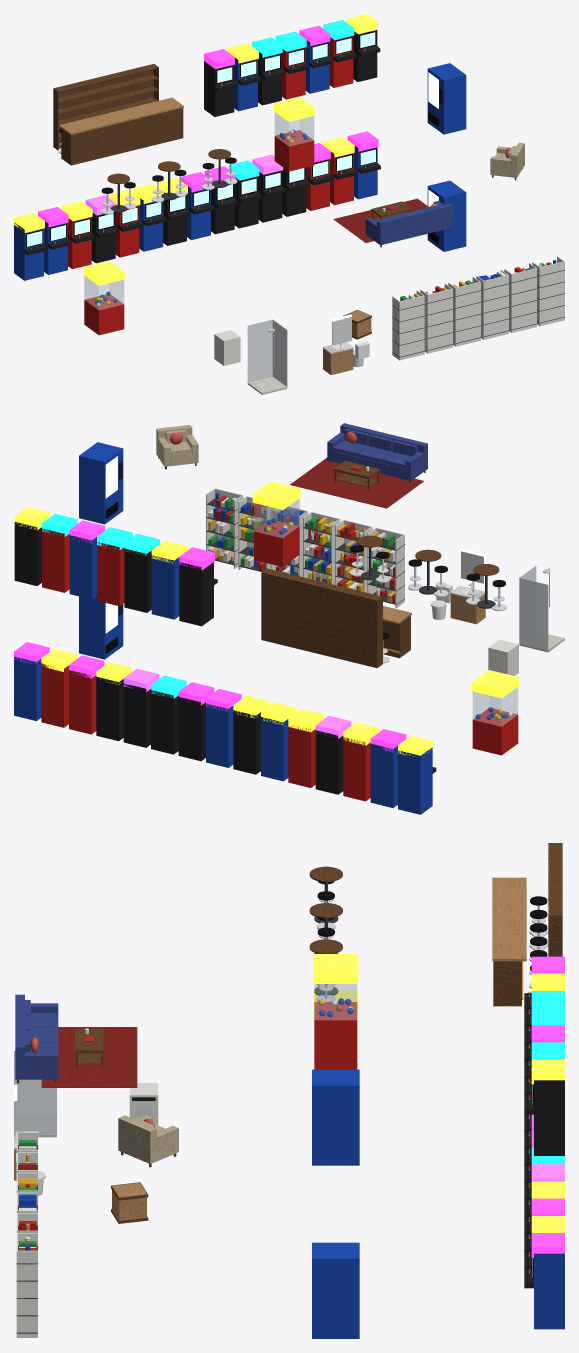
File: i_pachinko_parlor.gltf
The picture shows the model from 3 angles, top to bottom: view 1: azimuth 30°, elevation 25°; view 2: azimuth 150°, elevation 25°; view 3: azimuth 270°, elevation 25°; orthographic projection. The views are drawn at different scales.
Visible parts, largest first — view 1: I_pachinko_parlor; view 2: I_pachinko_parlor; view 3: I_pachinko_parlor.
Boxes of the visible parts, <box> form: I_pachinko_parlor: <box>14,14,564,394</box>; I_pachinko_parlor: <box>14,423,564,814</box>; I_pachinko_parlor: <box>14,843,564,1338</box>.
Size of the model in its own units: 13.23 by 6 by 11.54.
32 materials, 10 textured.
